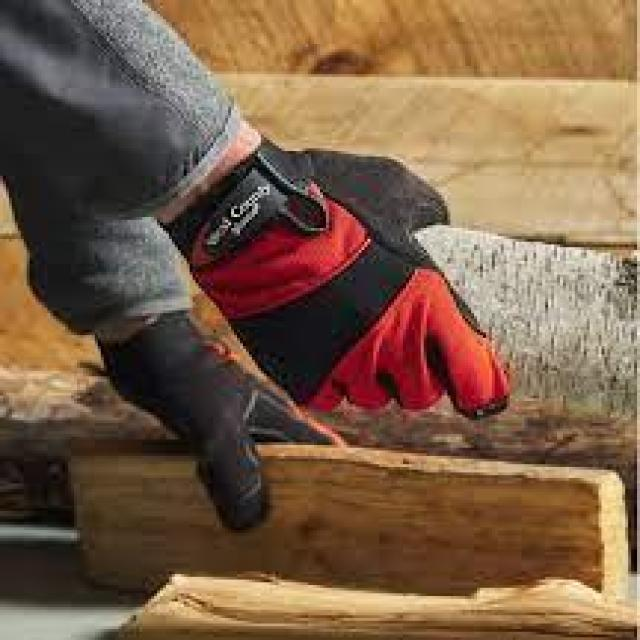Gloves: (156, 125, 530, 434), (97, 314, 329, 536)
